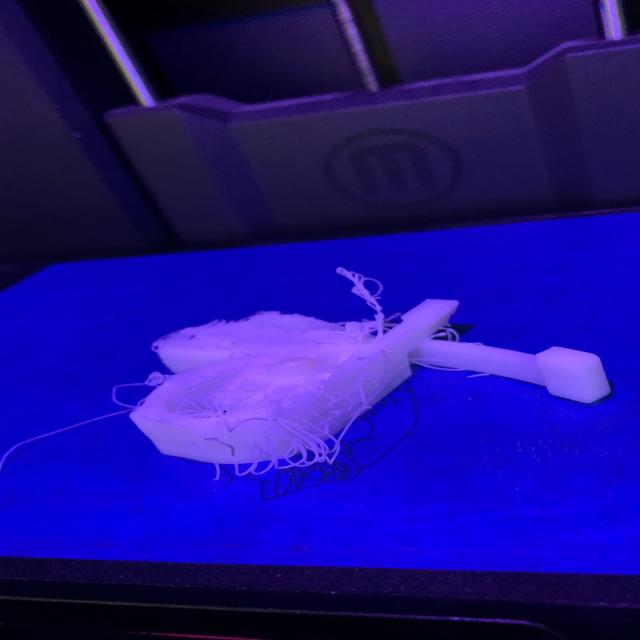spaghetti: (95, 352, 397, 498)
